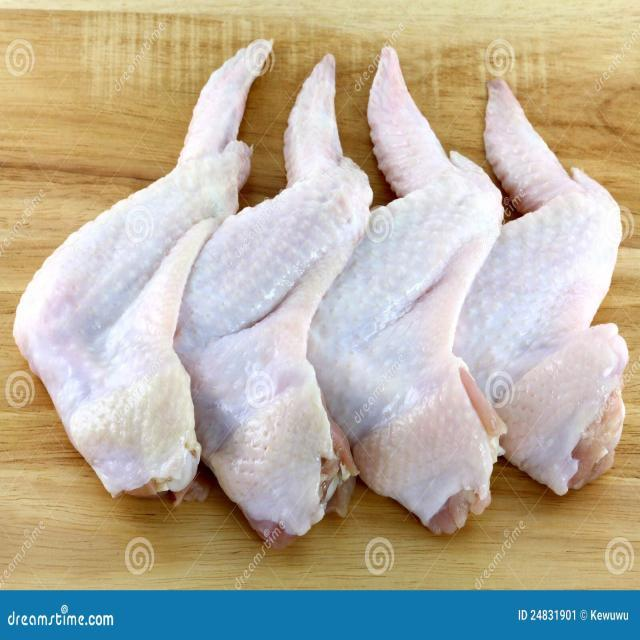wing: (23, 28, 243, 545), (354, 41, 504, 540), (222, 47, 357, 545), (475, 67, 626, 500)
